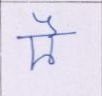e_matra: (32, 13, 60, 33)
